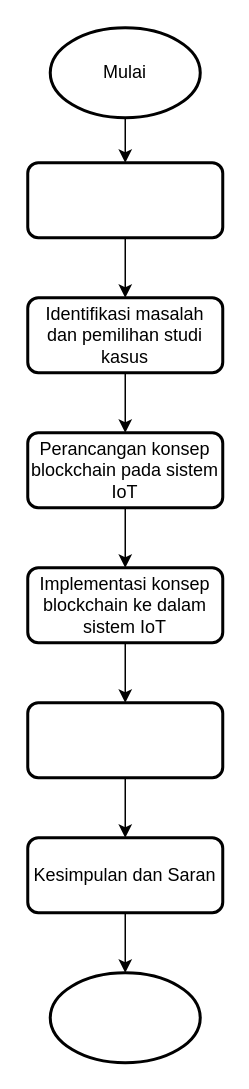
Some shapes in this 249 by 1089 pixel diagram are drawn without their labels. The box of each missing label's shape, as (x1, y1, x2, y2) in pixels:
Analisis dan pengujian: (26, 700, 224, 778)
Selesai: (48, 970, 201, 1064)
Studi Literatur: (26, 160, 224, 238)
